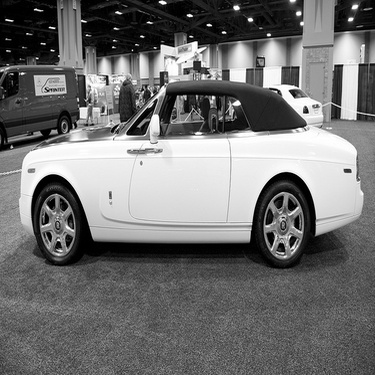car: (19, 80, 368, 271), (1, 59, 79, 137), (223, 83, 328, 127)
